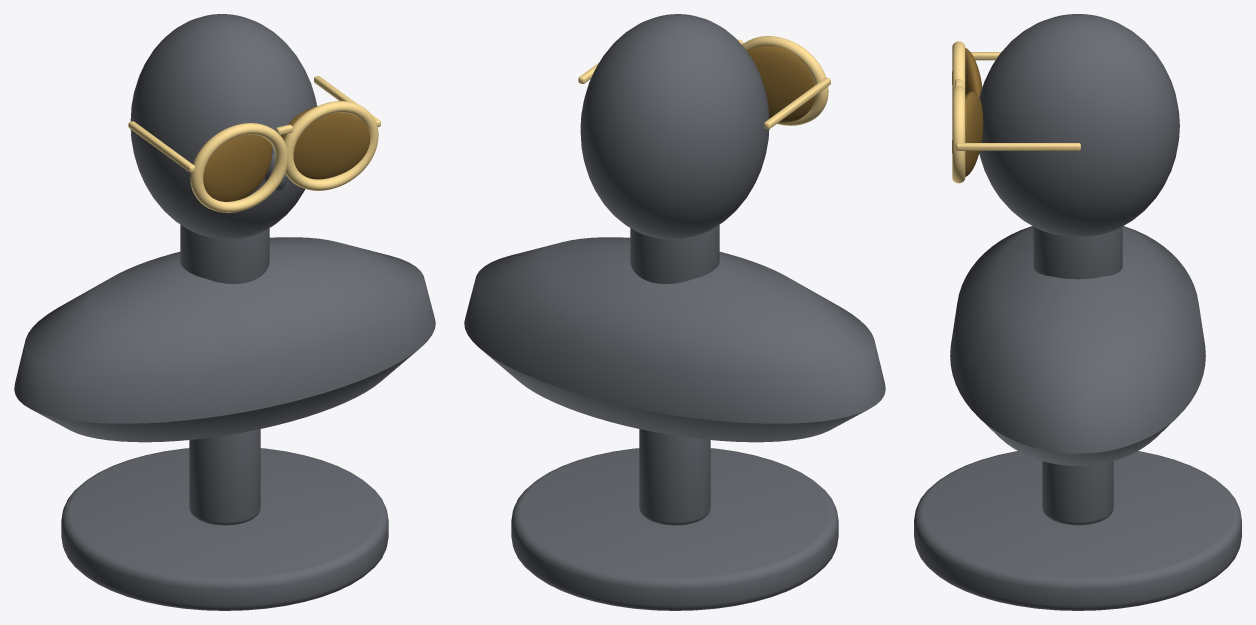
Rendered from reward-gold-aviators.glb.
3 renders of one model, left to right at view 1: azimuth 30°, elevation 25°; view 2: azimuth 150°, elevation 25°; view 3: azimuth 270°, elevation 25°, orthographic.
Visible parts, largest first — view 1: shoulders, foot, head, pole, lens.001, neck, lens, rim.001, rim.002, arm; view 2: shoulders, foot, head, pole, neck, lens, rim.001, arm; view 3: shoulders, foot, head, pole, neck, rim.002, lens.001, arm.001, lens, rim.001.
Part boxes in pixels (left/top/right/bottom): shoulders: left=14, top=237, right=435, bottom=442; foot: left=61, top=448, right=388, bottom=610; head: left=130, top=14, right=316, bottom=239; pole: left=189, top=429, right=260, bottom=525; lens.001: left=281, top=106, right=370, bottom=179; neck: left=180, top=224, right=269, bottom=283; lens: left=203, top=134, right=272, bottom=201; rim.001: left=190, top=123, right=287, bottom=212; rim.002: left=284, top=101, right=378, bottom=190; arm: left=128, top=121, right=194, bottom=172; shoulders: left=464, top=237, right=885, bottom=442; foot: left=511, top=448, right=838, bottom=610; head: left=580, top=14, right=769, bottom=239; pole: left=639, top=429, right=710, bottom=525; neck: left=630, top=224, right=719, bottom=283; lens: left=746, top=45, right=815, bottom=122; rim.001: left=742, top=36, right=828, bottom=125; arm: left=764, top=77, right=830, bottom=129; shoulders: left=950, top=226, right=1205, bottom=465; foot: left=914, top=451, right=1241, bottom=610; head: left=979, top=14, right=1179, bottom=236; pole: left=1042, top=461, right=1113, bottom=525; neck: left=1033, top=226, right=1122, bottom=279; rim.002: left=952, top=85, right=965, bottom=183; lens.001: left=952, top=91, right=983, bottom=176; arm.001: left=955, top=143, right=1080, bottom=150; lens: left=952, top=48, right=982, bottom=97; rim.001: left=952, top=41, right=965, bottom=90.
Bounding box in the file's own units: 2.42 × 3.01 × 1.7.
